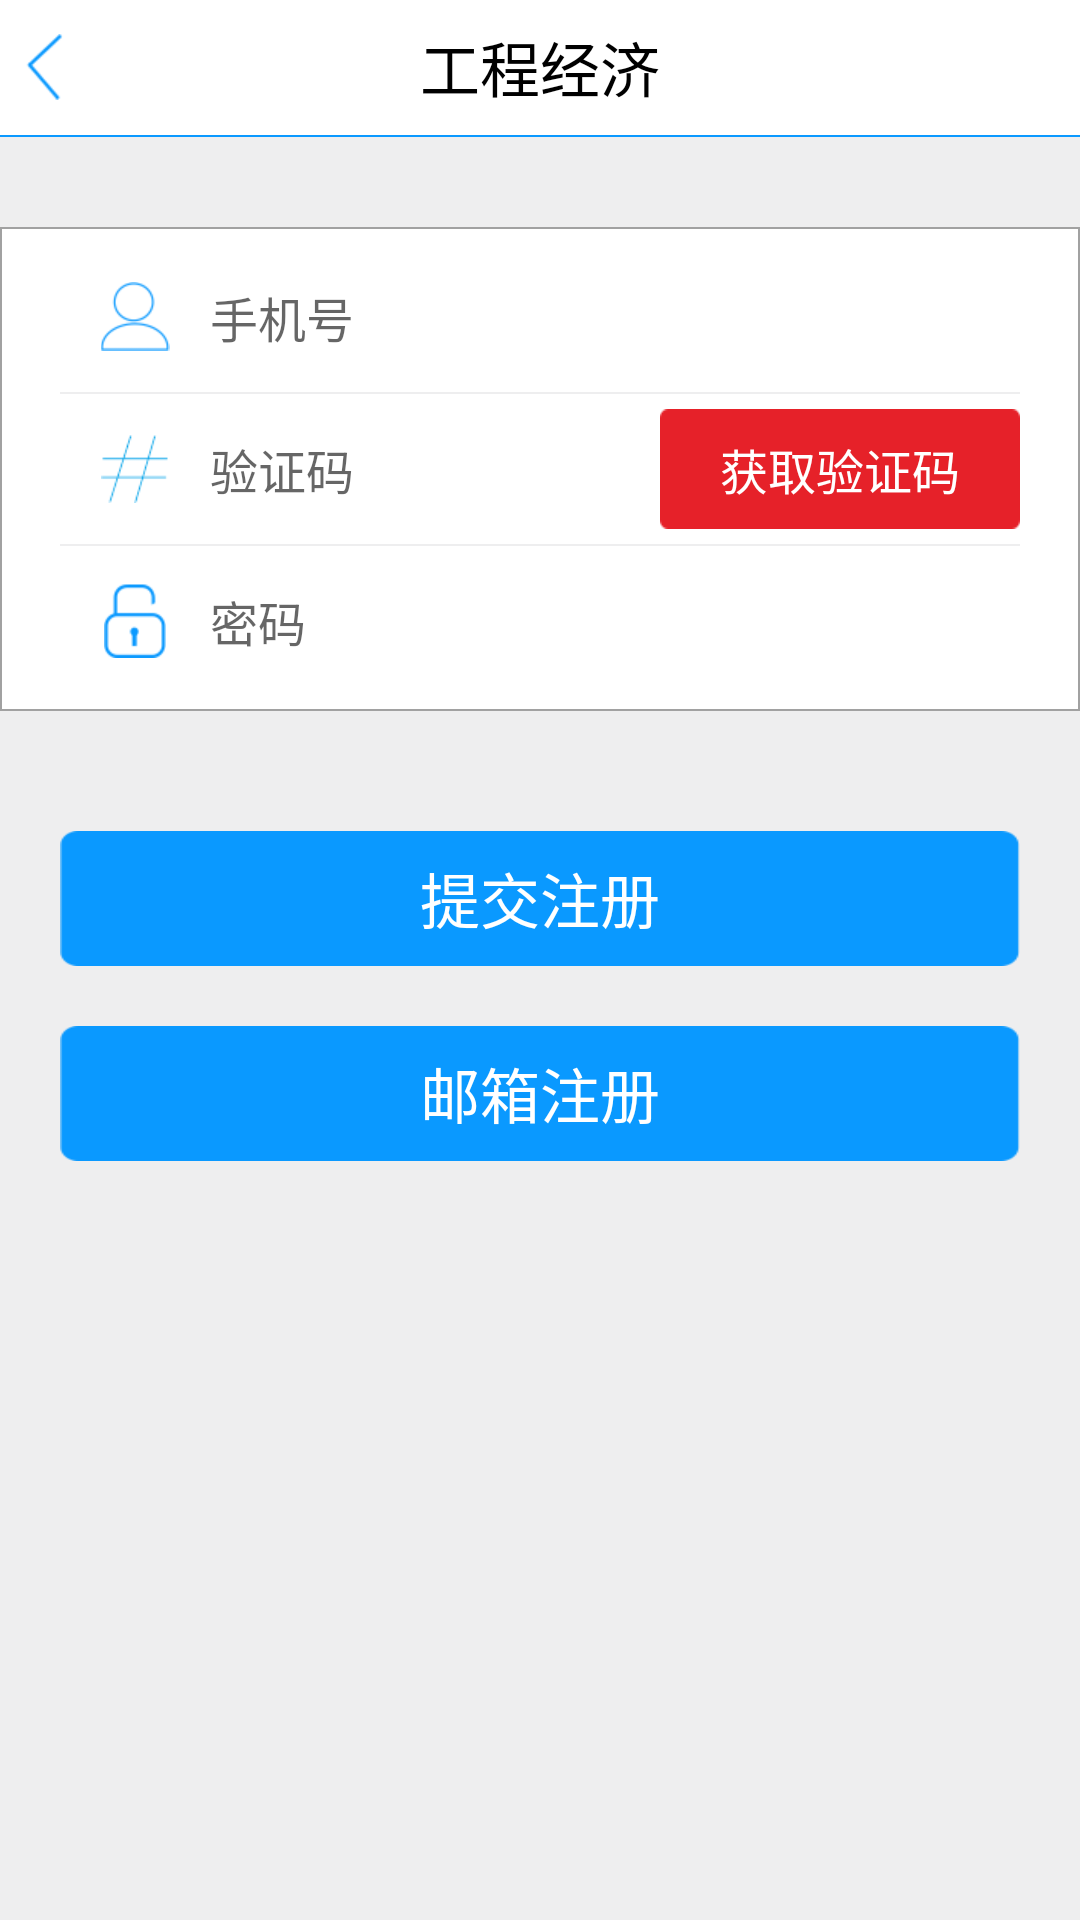

Named icons in this screenshot (1080x1920) and their bounding boxes, (x1, y1, x2, y2):
back: (27, 34, 62, 100)
register password: (104, 584, 166, 658)
register user: (101, 282, 170, 351)
register yanzheng: (101, 435, 168, 503)
